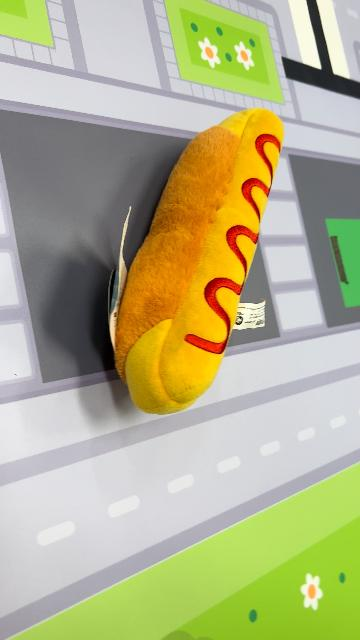hotdog: (110, 106, 286, 416)
